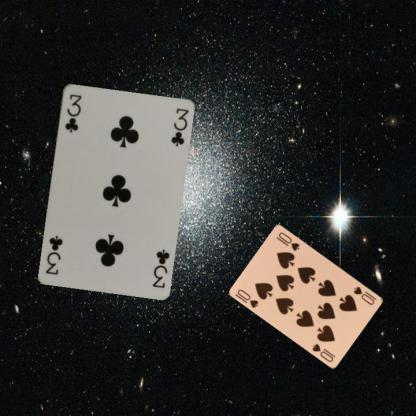10s: (351, 284, 376, 306), (235, 287, 260, 309)
3c: (149, 246, 171, 290), (62, 92, 82, 134)
